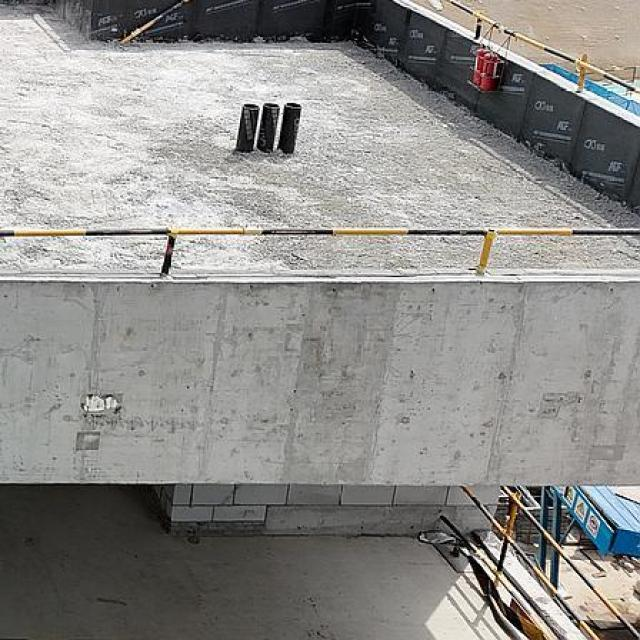edge_guardrail: (0, 227, 640, 280), (458, 484, 640, 639), (444, 0, 640, 96), (118, 0, 188, 47)
